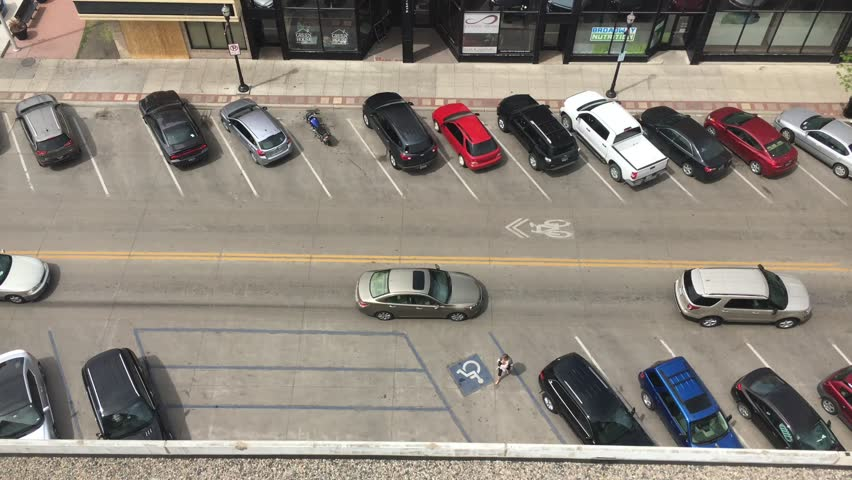car: (525, 352, 646, 451), (567, 88, 668, 187), (735, 365, 842, 458), (641, 355, 746, 449), (83, 347, 178, 448), (684, 266, 817, 329), (712, 107, 817, 186), (353, 264, 483, 322), (123, 91, 212, 169), (2, 347, 63, 448), (502, 91, 574, 171), (362, 91, 432, 172), (652, 105, 729, 178), (435, 97, 503, 174), (10, 94, 80, 167), (221, 98, 292, 166), (778, 110, 852, 173), (1, 253, 53, 306)
